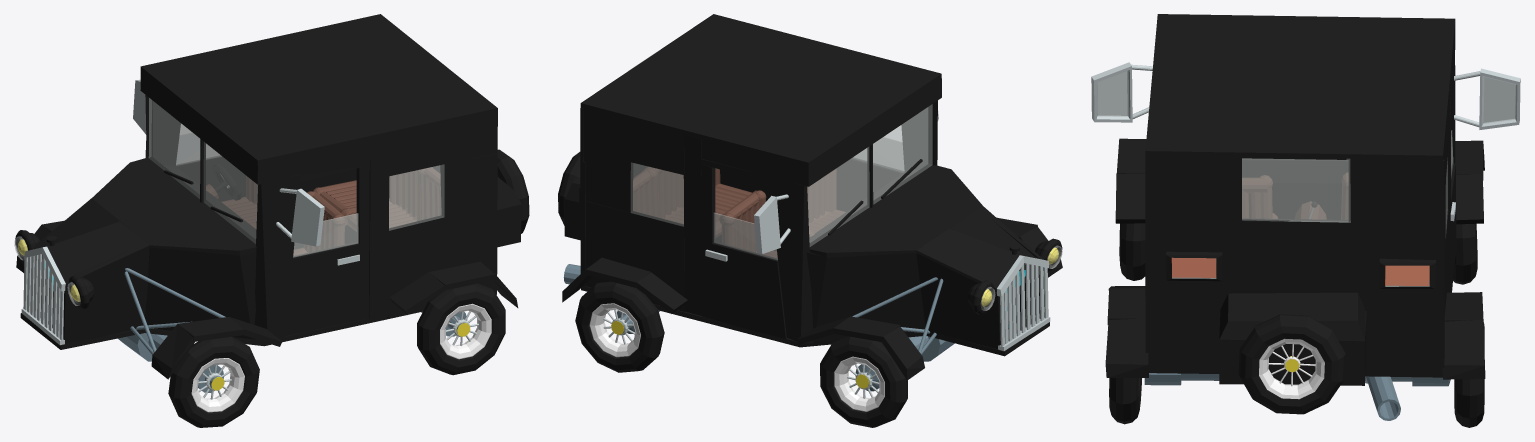
File: car.obj
The picture shows the model from 3 angles, left to right: view 1: azimuth 30°, elevation 25°; view 2: azimuth 150°, elevation 25°; view 3: azimuth 270°, elevation 25°; orthographic projection. The views are drawn at different scales.
Visible parts, largest first — view 1: group1643766101; view 2: group1643766101; view 3: group1643766101.
Part boxes in pixels (x1,y1,x2,y2): group1643766101: (14, 14, 529, 427); group1643766101: (558, 14, 1062, 427); group1643766101: (1091, 14, 1520, 427).
Bounding box in the file's own units: 4.6 × 2.37 × 3.1.
